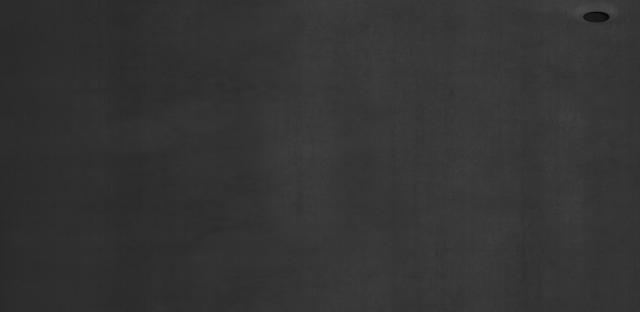punching_hole: (574, 6, 616, 29)
